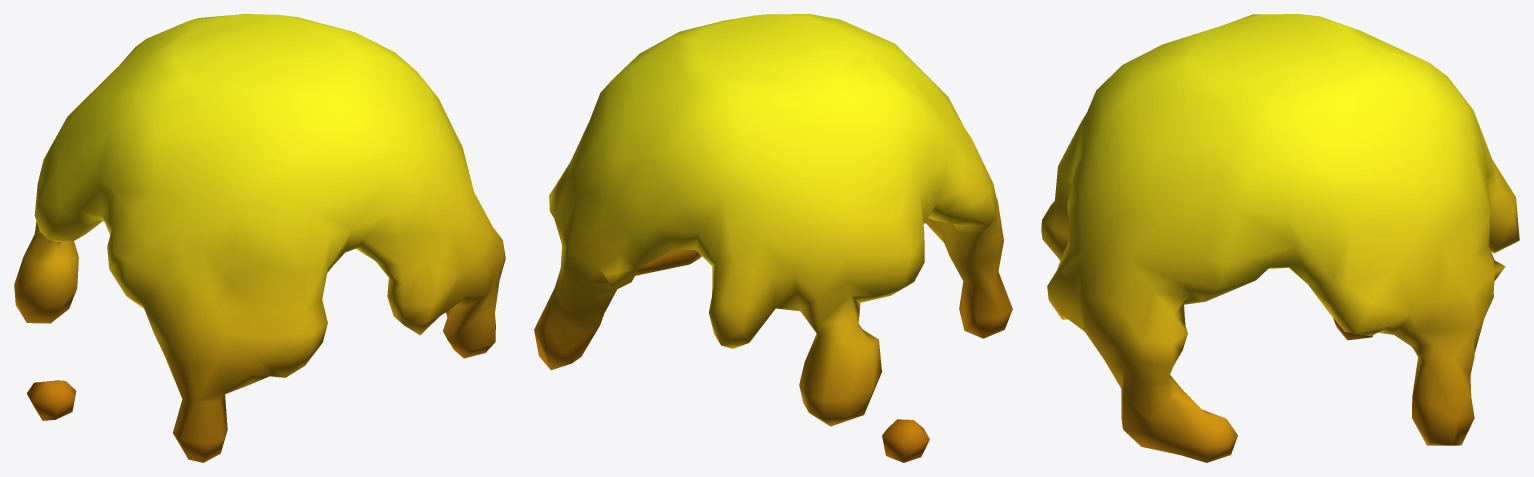
Rendered from Tender_Sauce.fbx.
The picture shows the model from 3 angles, left to right: view 1: azimuth 30°, elevation 25°; view 2: azimuth 150°, elevation 25°; view 3: azimuth 270°, elevation 25°; orthographic projection. The views are drawn at different scales.
Visible parts, largest first — view 1: Cube.142; view 2: Cube.142; view 3: Cube.142.
Part boxes in pixels (x1,y1,x2,y2): Cube.142: (14,14,505,462); Cube.142: (534,14,1012,462); Cube.142: (1041,14,1519,462).
Size of the model in its own units: 10.15 by 8.64 by 10.12.
